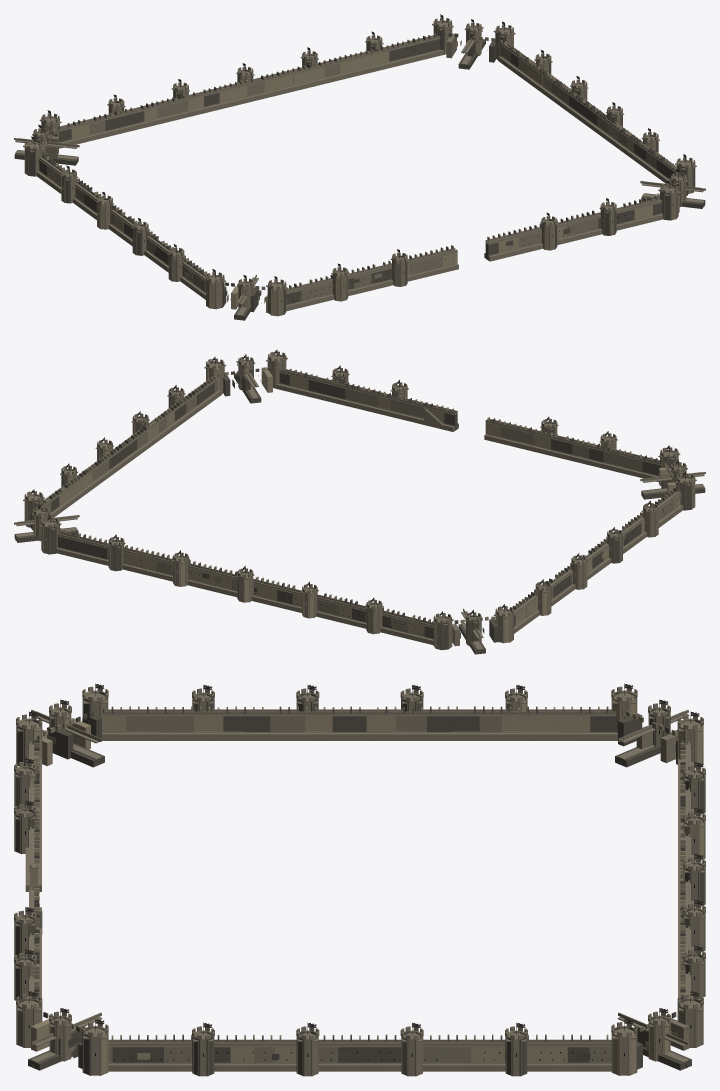
Rendered from prop_hk_walls.glb.
The picture shows the model from 3 angles, top to bottom: view 1: azimuth 30°, elevation 25°; view 2: azimuth 150°, elevation 25°; view 3: azimuth 270°, elevation 25°; orthographic projection. The views are drawn at different scales.
Parts seen in each view (by area): view 1: building_hk_walls; view 2: building_hk_walls; view 3: building_hk_walls.
Boxes of the visible parts, x1,y1,x2,y2 form: building_hk_walls: (14,14,705,320); building_hk_walls: (14,349,705,654); building_hk_walls: (14,683,705,1076).
Size of the model in its own units: 252 by 17.5 by 212.
Materials: 7 (7 with a texture image).
